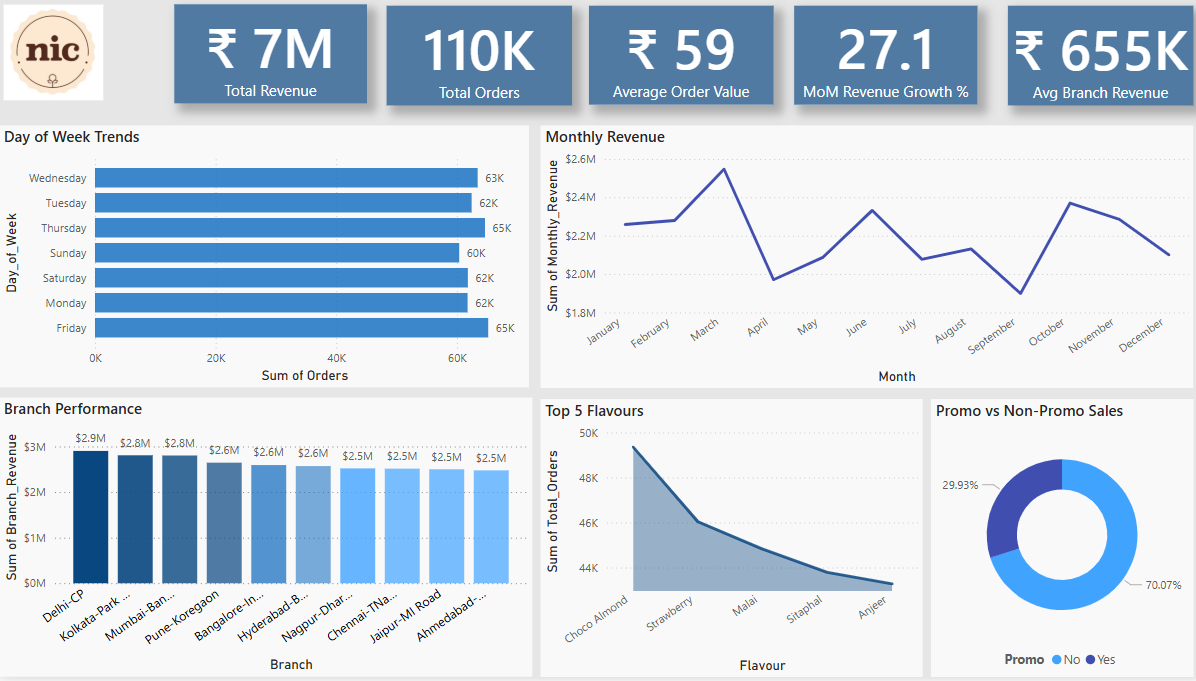

What the dashboard file says about the page in this screenshot:
{"tool":"powerbi","page":{"name":"Page 1","canvas":[1280,720],"ordinal":0},"visuals":[{"type":"lineChart","title":"Monthly Revenue","fields":{"Category":["Month-wise Sales.Month.Variation.Date Hierarchy.Month"],"Y":["Sum(Month-wise Sales.Monthly_Revenue)"]},"box":[575.8,133.3,694.2,279.2],"z":0},{"type":"areaChart","title":"Top 5 Flavours","fields":{"Category":["Top 5 Flavours.Flavour"],"Y":["Sum(Top 5 Flavours.Total_Orders)"]},"box":[575.5,423.6,406.4,296.4],"z":1000},{"type":"image","box":[0,0,115.8,111.4],"z":2000},{"type":"columnChart","title":"Branch Performance","fields":{"Category":["Branch-wise Revenue.Branch"],"Y":["Sum(Branch-wise Revenue.Branch_Revenue)"]},"box":[0,423.3,566.7,296.7],"z":3000},{"type":"clusteredBarChart","title":"Day of Week Trends","fields":{"Category":["Day of Week Trends.Day_of_Week"],"Y":["Sum(Day of Week Trends.Orders)"]},"box":[0,133.3,563.3,278.9],"z":4000},{"type":"donutChart","title":"Promo vs Non-Promo Sales","fields":{"Category":["Promo VS Non-Promo.Promo_Applied"],"Y":["Sum(Promo VS Non-Promo.Revenue)"]},"box":[990.9,423.6,279.1,296.4],"z":5000},{"type":"card","fields":{"Values":["sales_data.Total Revenue"]},"box":[186.7,5,205,105],"z":6000},{"type":"card","fields":{"Values":["sales_data.Total Orders"]},"box":[411.4,5.7,197.1,105.7],"z":7000},{"type":"card","fields":{"Values":["sales_data.Average Order Value (AOV)"]},"box":[626.9,5.4,196.2,105.4],"z":8000},{"type":"card","fields":{"Values":["sales_data.MoM Revenue Growth %"]},"box":[845.8,5.8,195,105],"z":9000},{"type":"card","fields":{"Values":["sales_data.Promo Revenue %"]},"box":[1072.9,5.7,197.1,105.7],"z":10000}]}

Visuals, with their boxes in screenshot pixels (x1, y1, x2, y2), scaled from the page's 1280x720 canvas onto the 1196x681 screenshot:
"Monthly Revenue" lineChart: 538,126,1187,390
"Top 5 Flavours" areaChart: 538,401,917,680
image: 0,0,108,105
"Branch Performance" columnChart: 0,400,530,680
"Day of Week Trends" clusteredBarChart: 0,126,526,390
"Promo vs Non-Promo Sales" donutChart: 926,401,1187,680
card - sales_data.Total Revenue: 174,5,366,104
card - sales_data.Total Orders: 384,5,569,105
card - sales_data.Average Order Value (AOV): 586,5,769,105
card - sales_data.MoM Revenue Growth %: 790,5,972,105
card - sales_data.Promo Revenue %: 1002,5,1187,105
